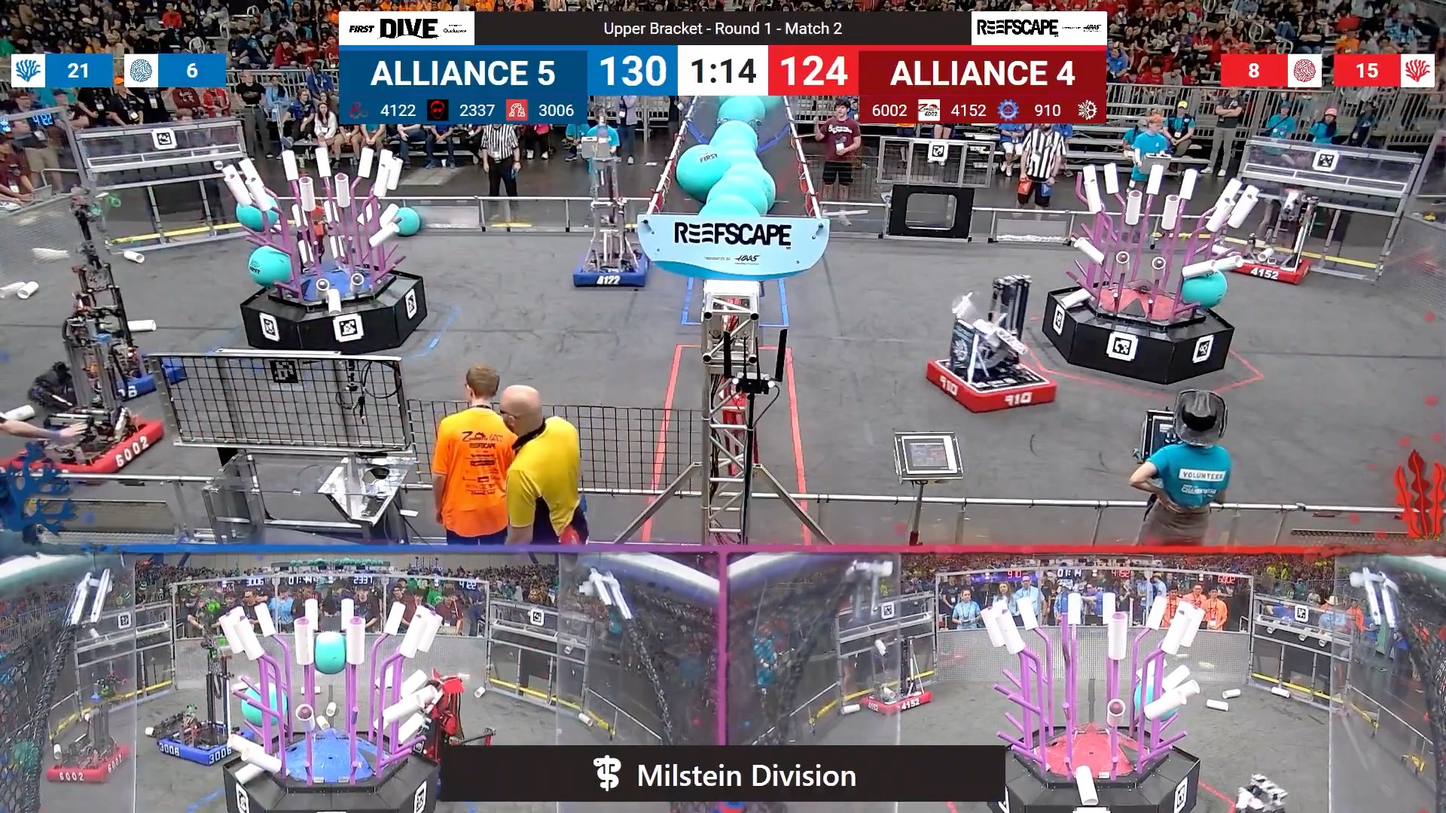bumpers: (17, 410, 169, 481), (920, 356, 1063, 418), (62, 353, 187, 403), (44, 735, 134, 791), (151, 720, 243, 768), (1220, 248, 1317, 287), (567, 249, 657, 291), (853, 684, 937, 718)
